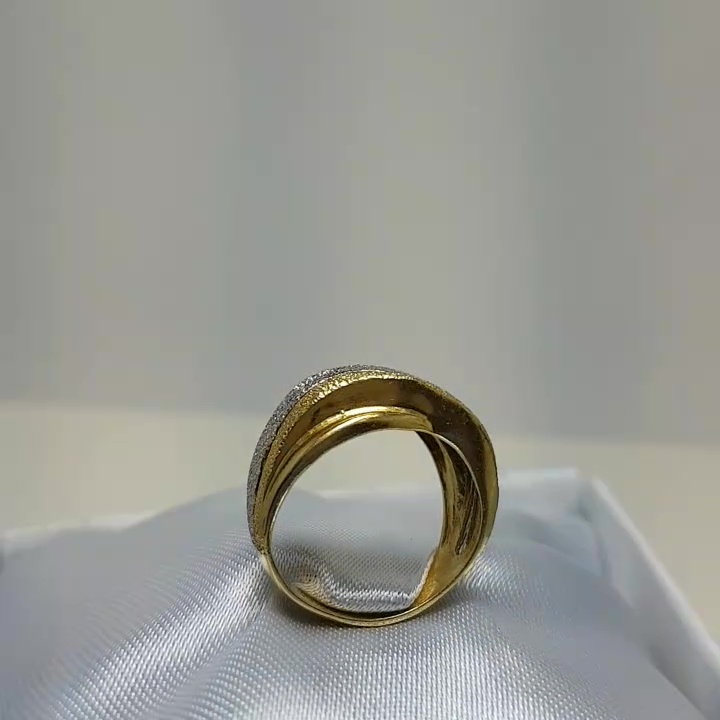Ring 5: (231, 330, 514, 642)
